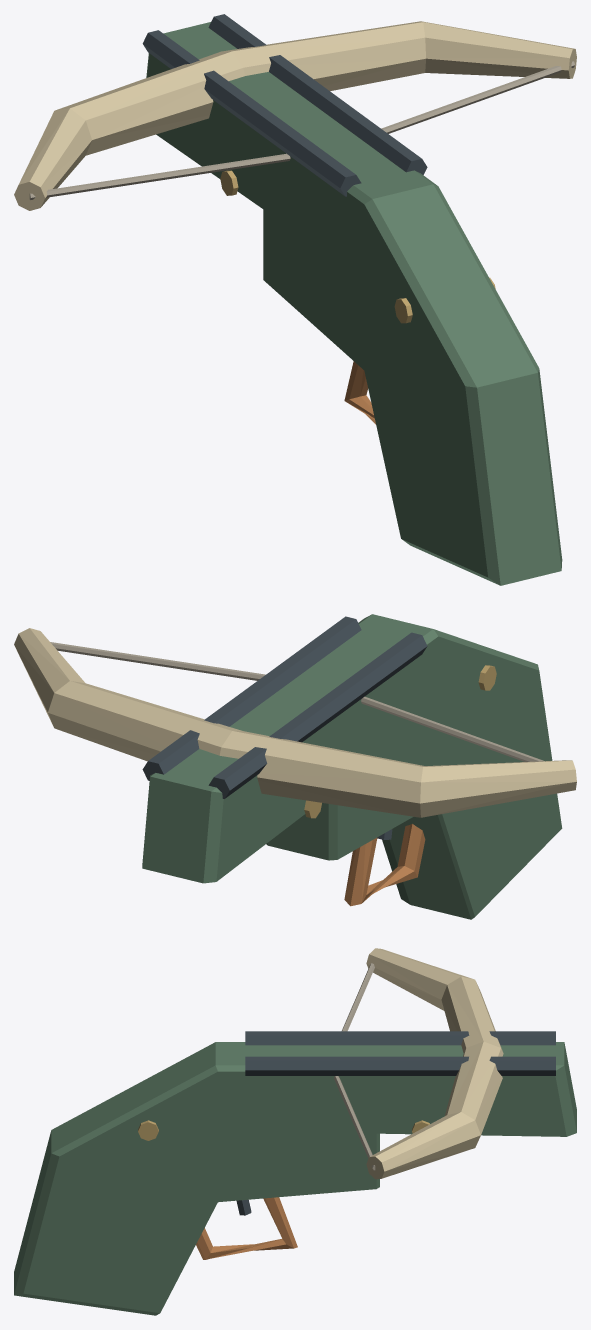
The model's file is AEW_Crossbow_BriarScout.fbx.
3 renders of one model, top to bottom at view 1: azimuth 30°, elevation 25°; view 2: azimuth 150°, elevation 25°; view 3: azimuth 270°, elevation 25°, orthographic. The views are drawn at different scales.
Visible parts, largest first — view 1: AEW_Crossbow_BriarScout; view 2: AEW_Crossbow_BriarScout; view 3: AEW_Crossbow_BriarScout.
Boxes of the visible parts, x1,y1,x2,y2 form: AEW_Crossbow_BriarScout: [14, 14, 576, 585]; AEW_Crossbow_BriarScout: [14, 614, 576, 919]; AEW_Crossbow_BriarScout: [14, 948, 576, 1315].
Size of the model in its own units: 0.684 by 0.388 by 0.754.
